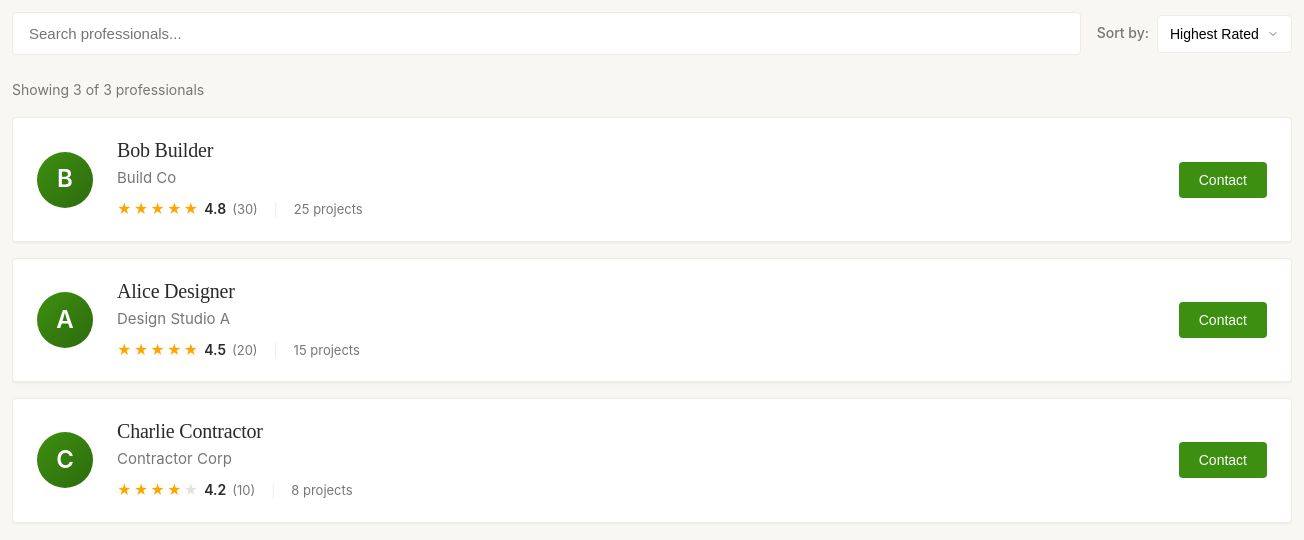
Scenario: ProfessionalsList Component › filters professionals by name search
This screenshot has width=1304, height=540.
Type "Alice" into the field with placeholder "Search professionals..." at (546, 34), box x1=12 y1=12 x2=1081 y2=55
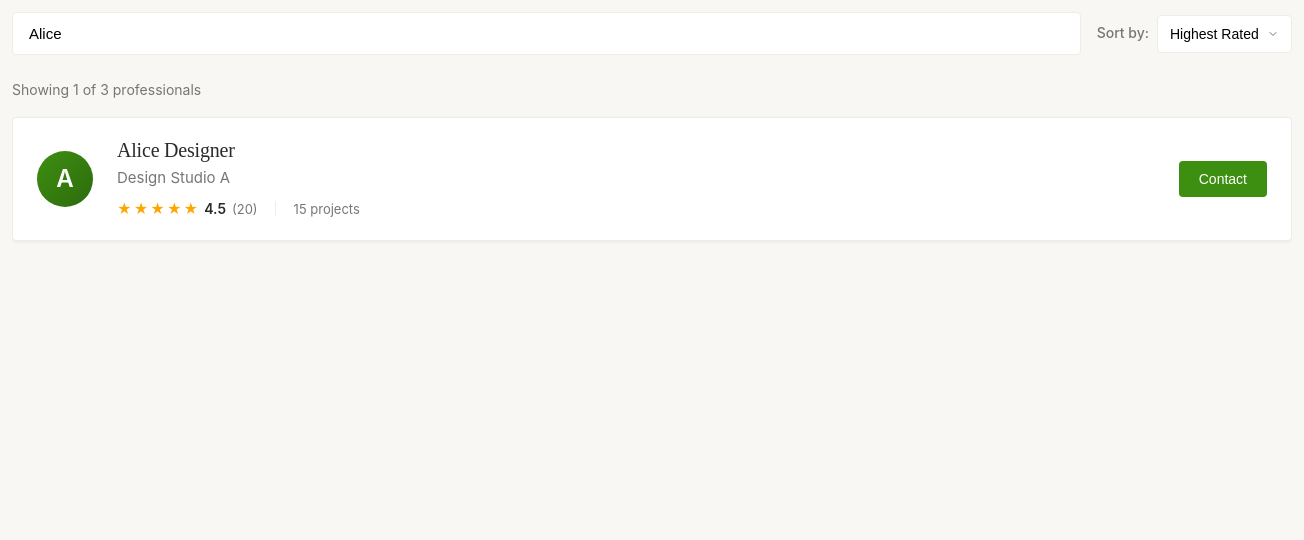
Expected: the heading "Alice Designer" is shown, x1=117 y1=139 x2=235 y2=161
Result: the link "Bob Builder" is gone
Result: the link "Charlie Contractor" is gone
